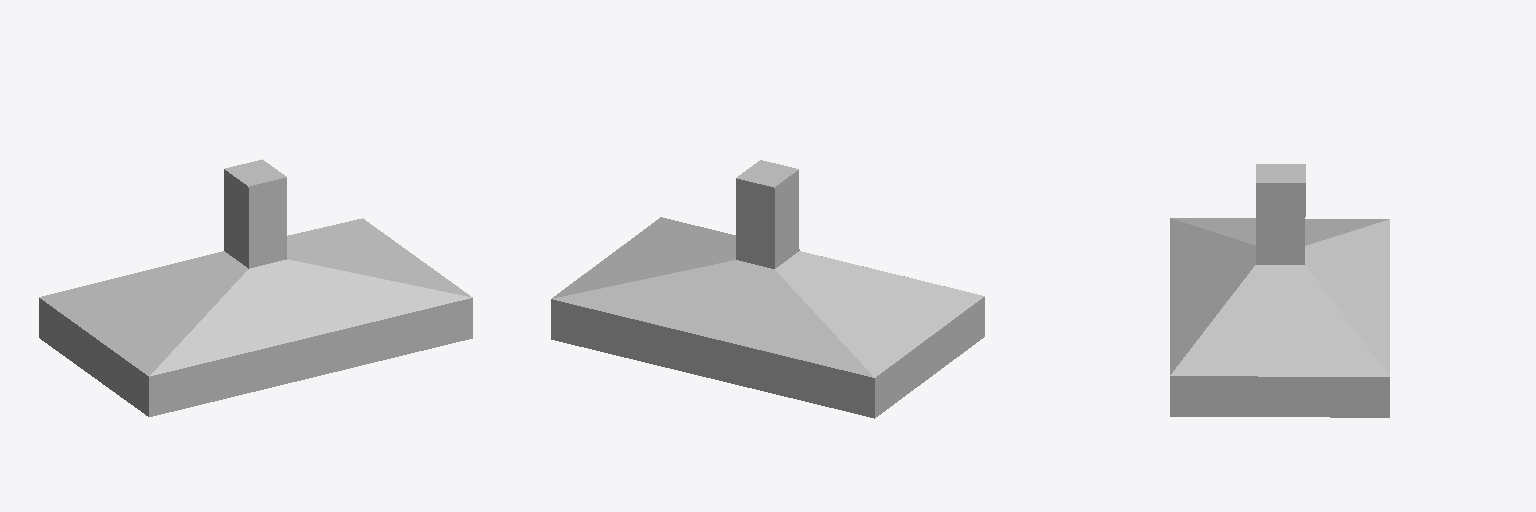
The model's file is Kitchen_Light.obj.
3 views of the same model, side by side, from view 1: azimuth 30°, elevation 25°; view 2: azimuth 150°, elevation 25°; view 3: azimuth 270°, elevation 25° (orthographic).
Parts seen in each view (by area): view 1: Cube; view 2: Cube; view 3: Cube.
Boxes of the visible parts, x1=… form: Cube: x1=39, y1=159, x2=472, y2=416; Cube: x1=551, y1=160, x2=984, y2=418; Cube: x1=1170, y1=164, x2=1389, y2=417.
Size of the model in its own units: 8.02 by 3.91 by 4.73.